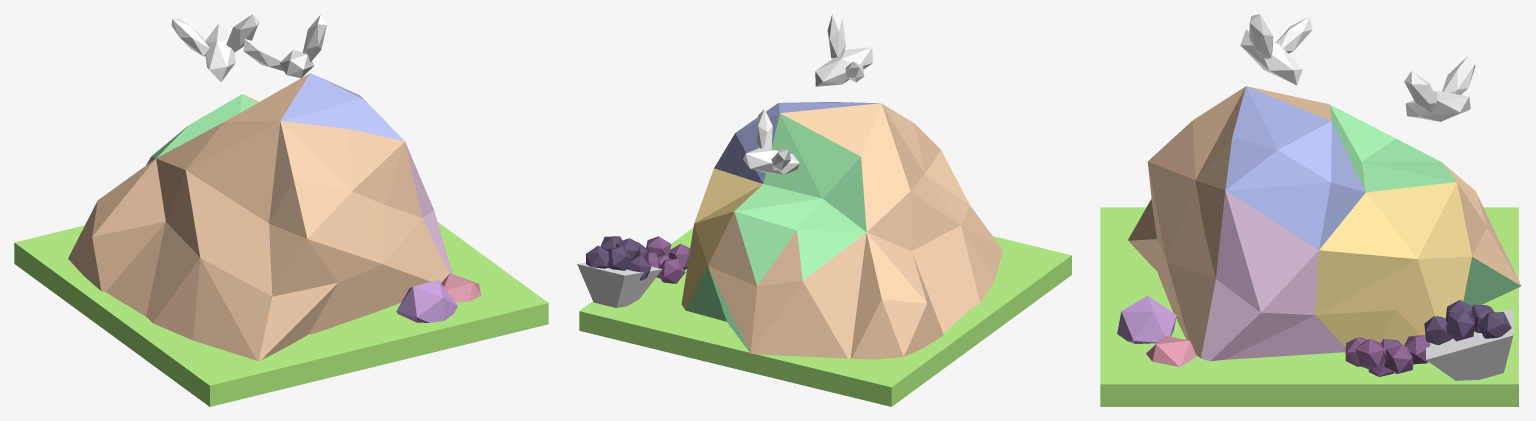
Rendered from building_pollution.fbx.
3 renders of one model, left to right at view 1: azimuth 30°, elevation 25°; view 2: azimuth 150°, elevation 25°; view 3: azimuth 270°, elevation 25°, orthographic. The views are drawn at different scales.
Parts seen in each view (by area): view 1: rubbish; view 2: rubbish; view 3: rubbish.
Boxes of the visible parts, <box> form: rubbish: <box>14,14,548,406</box>; rubbish: <box>577,14,1071,406</box>; rubbish: <box>1100,14,1521,406</box>.
Bounding box in the file's own units: 50.72 × 43.12 × 50.31.
